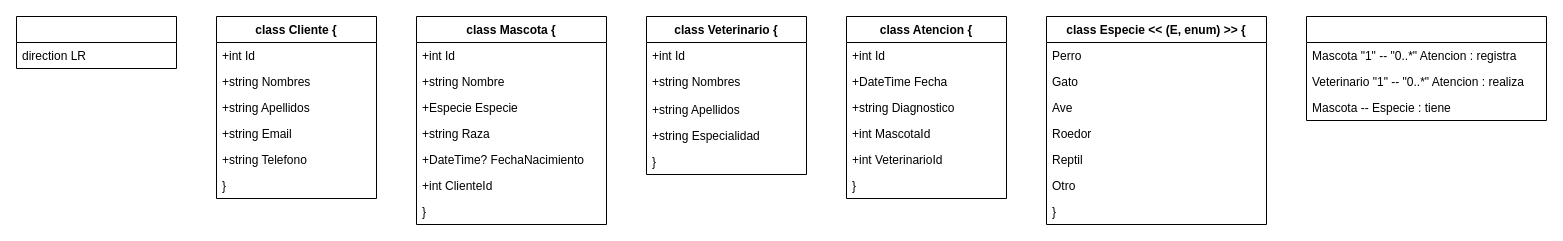
Some shapes in this 1563 by 241 pixel diagram are drawn without their labels. Here are the shapes that lost their labels. From the top down, the box of each, then its label:
(16, 16, 176, 68): classDiagram
(1306, 16, 1546, 120): Cliente "1" -- "0..*" Mascota : tiene
